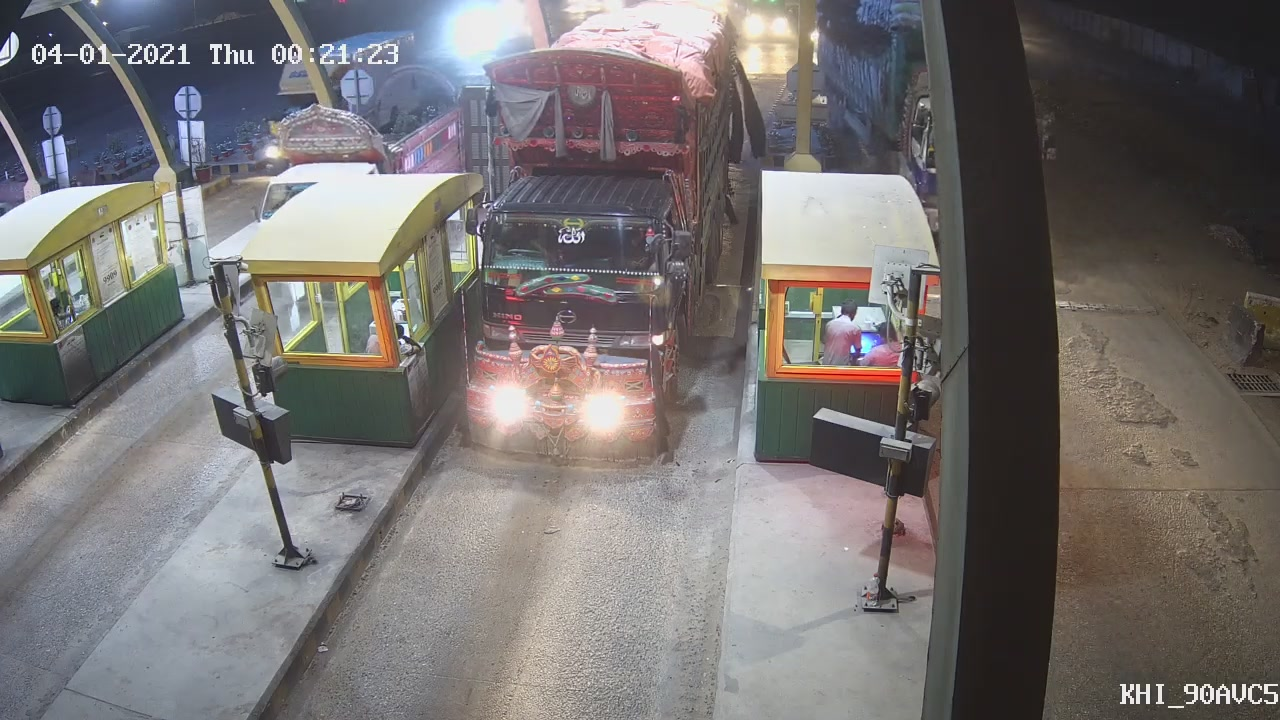F5: (433, 46, 720, 490)
